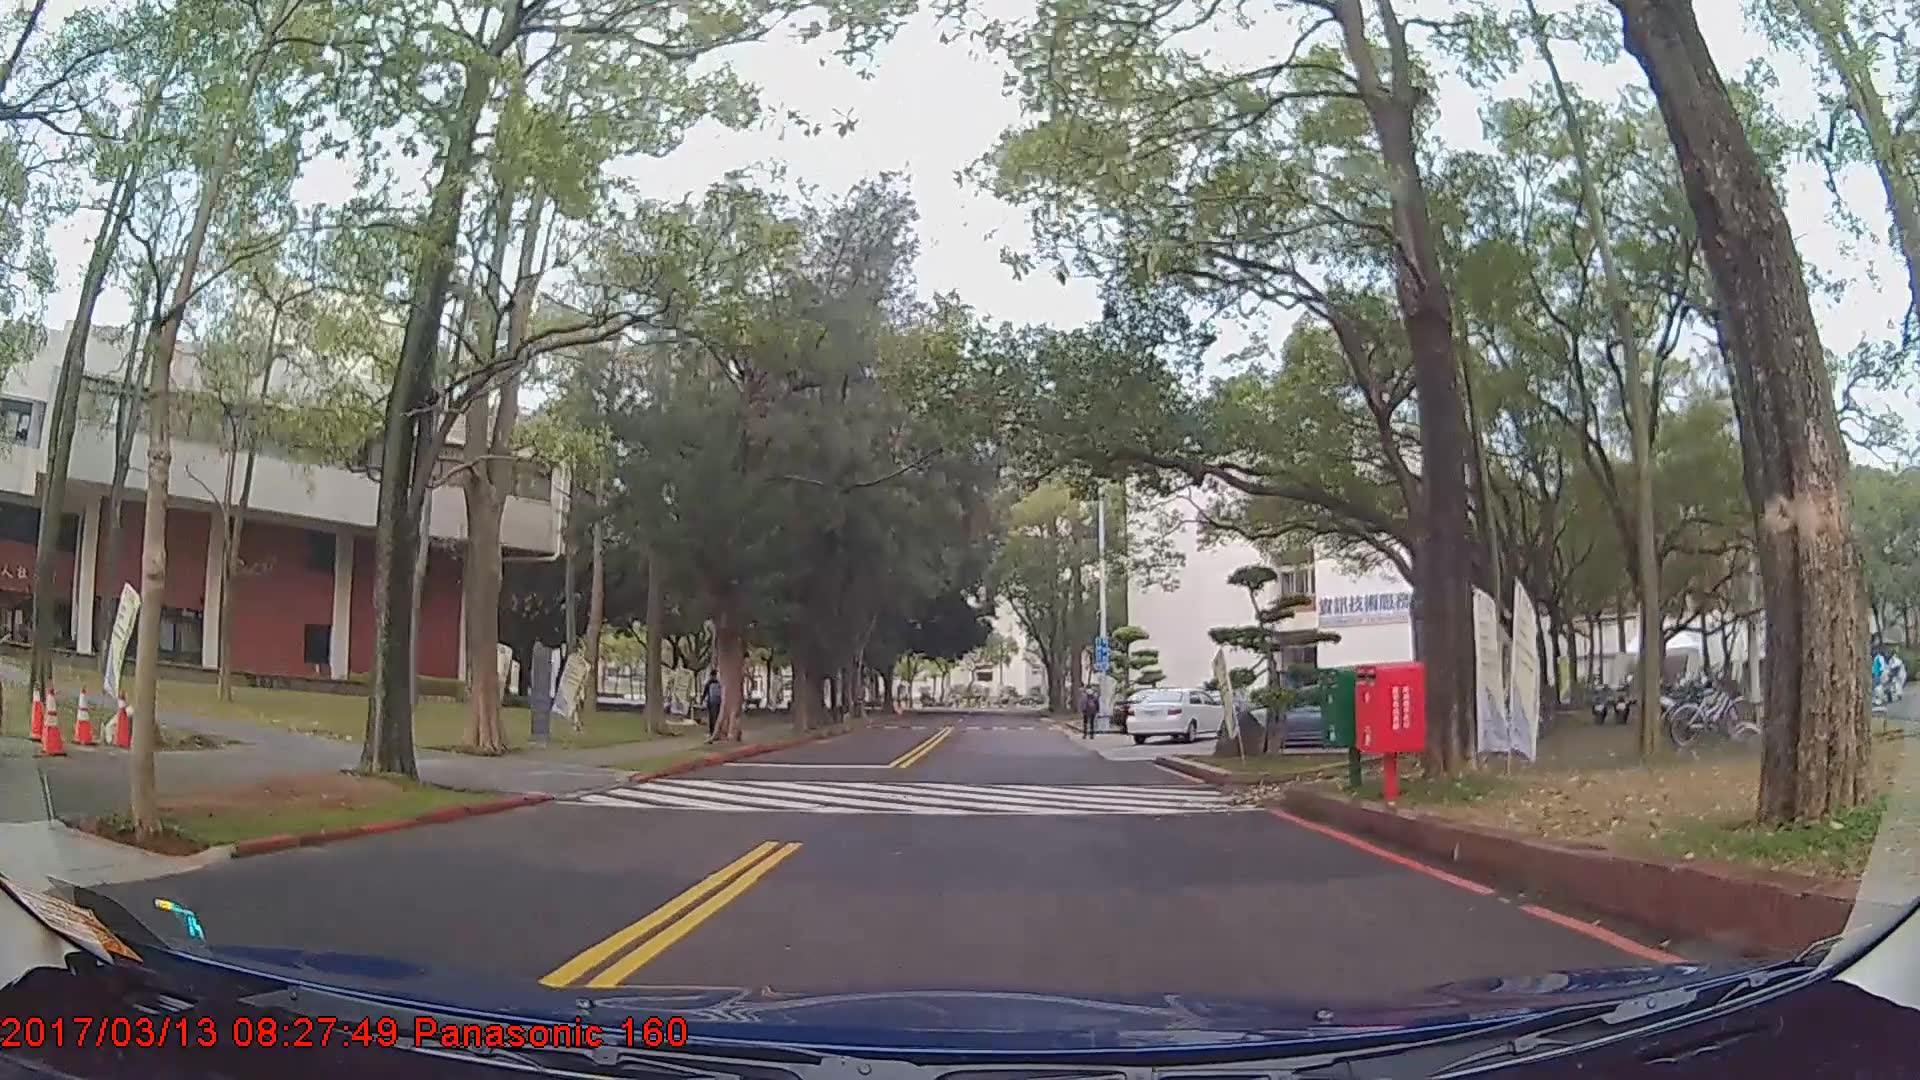pedestrian: (702, 667, 733, 737), (1078, 685, 1102, 740)
vehicle: (1127, 682, 1230, 741)
